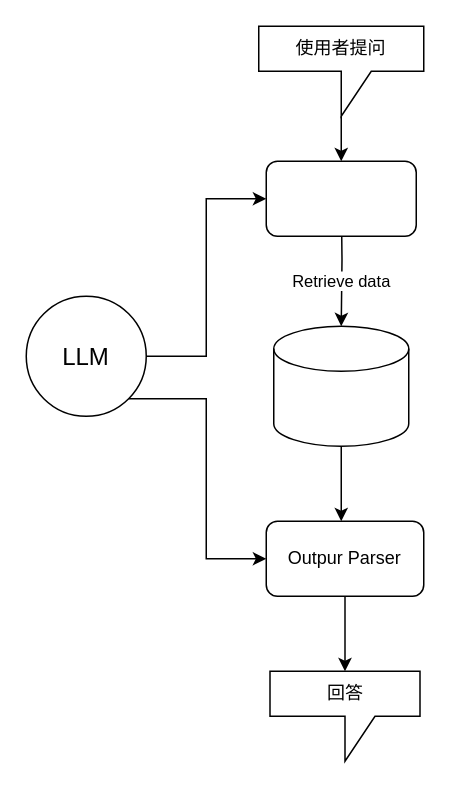
Image size: 450x788. Some labels were removed from this diagram. The centre of each missing label's shape, as x and y in pixels:
Query Parser: the point at 340,198
Vectot DB: the point at 340,385
